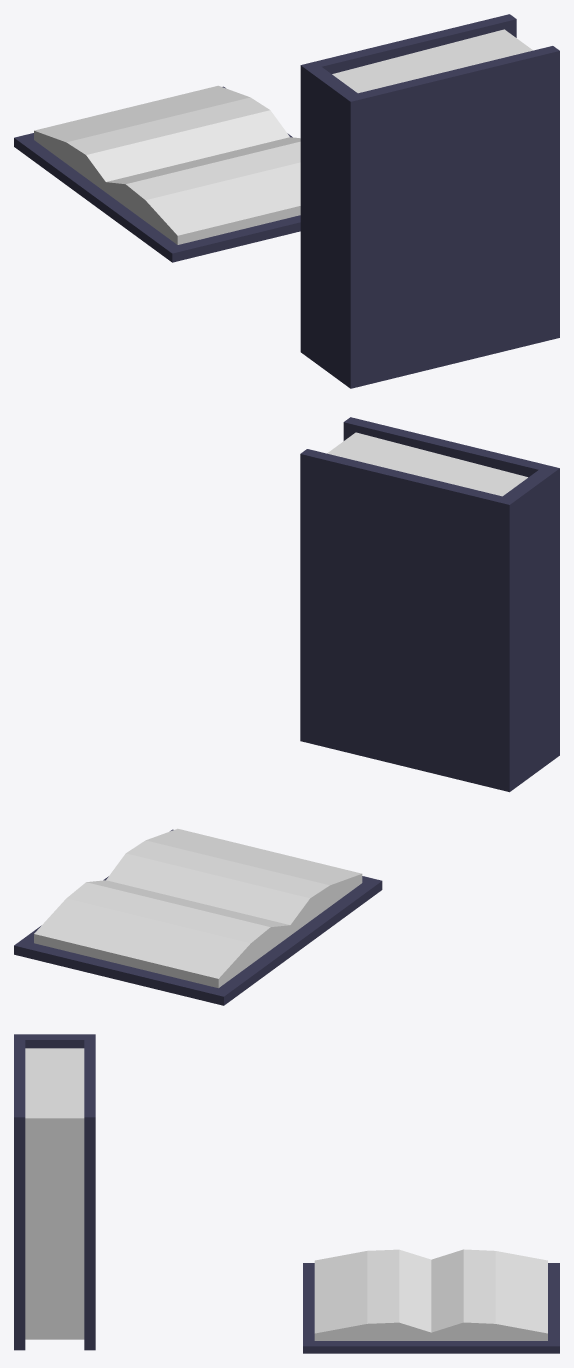
The model's file is kitap.fbx.
The picture shows the model from 3 angles, top to bottom: view 1: azimuth 30°, elevation 25°; view 2: azimuth 150°, elevation 25°; view 3: azimuth 270°, elevation 25°; orthographic projection. The views are drawn at different scales.
Visible parts, largest first — view 1: kapalıkitap, acikkitap; view 2: kapalıkitap, acikkitap; view 3: acikkitap, kapalıkitap.
Part boxes in pixels (box(x1,y1,x2,y2)): kapalıkitap: box(300, 14, 559, 388); acikkitap: box(14, 85, 300, 262); kapalıkitap: box(300, 417, 559, 792); acikkitap: box(14, 828, 382, 1005); acikkitap: box(303, 1249, 559, 1353); kapalıkitap: box(14, 1034, 95, 1350).
Bounding box in the file's own units: 153 × 203 × 425.
